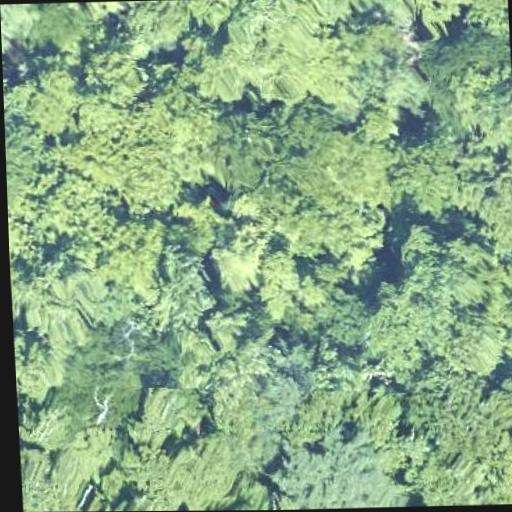tree-top: (217, 94, 395, 226), (378, 229, 512, 374), (71, 97, 209, 210), (395, 365, 497, 471), (277, 433, 399, 510), (167, 425, 255, 511), (3, 89, 50, 247), (432, 29, 512, 117), (388, 129, 461, 219), (32, 256, 111, 338), (71, 35, 154, 107), (132, 374, 215, 445), (14, 59, 86, 138), (100, 221, 167, 297), (155, 247, 212, 330), (210, 231, 279, 299), (13, 322, 63, 413), (120, 0, 200, 52), (0, 4, 28, 74), (9, 243, 29, 322), (57, 1, 145, 16), (498, 289, 512, 380), (22, 497, 87, 512)
